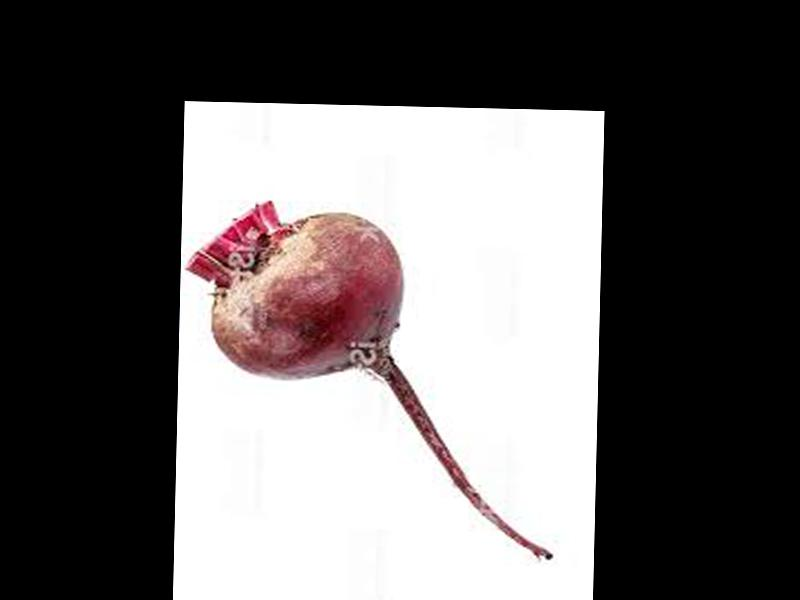Beet: (178, 201, 558, 560)
